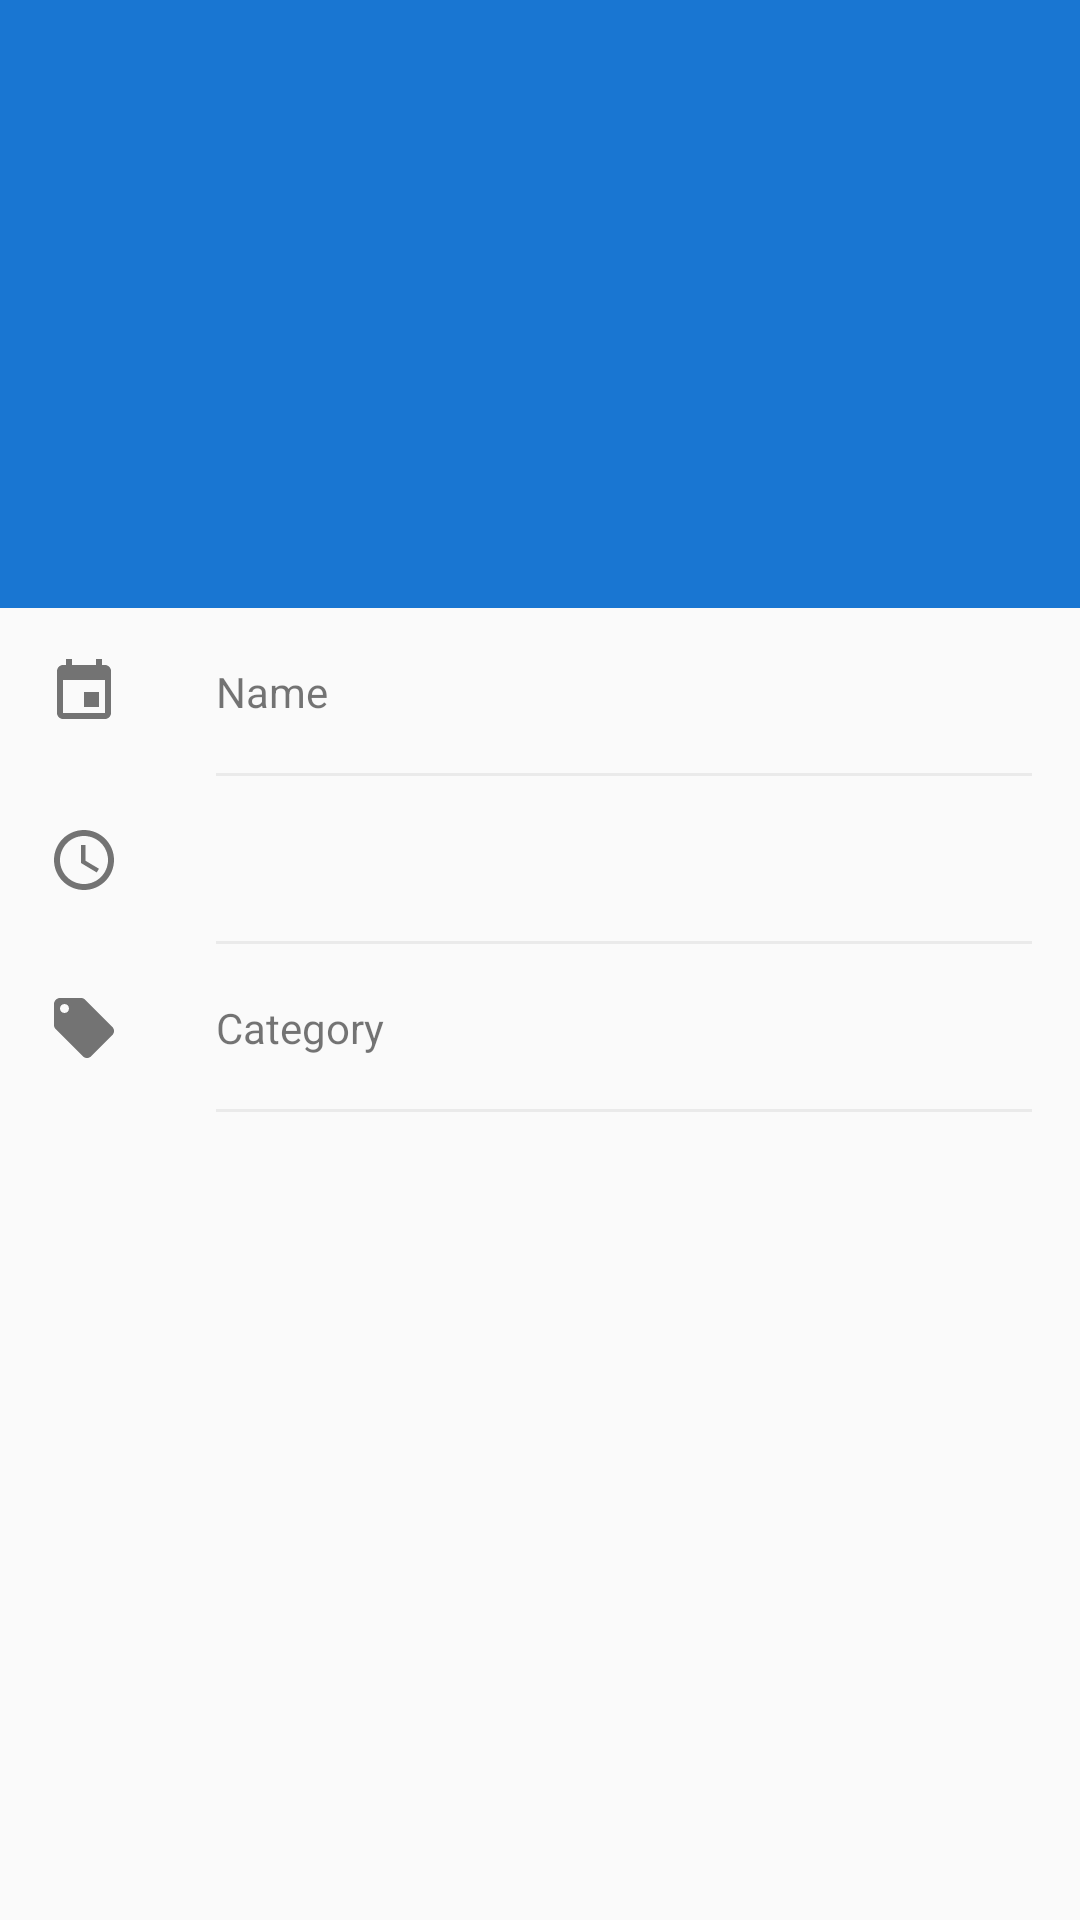

Icons on this 1080 x 1920 Android screen, each with its box as box=[x1, y1, x2, y2]:
clock: box=[54, 830, 114, 890]
event: box=[57, 659, 111, 719]
